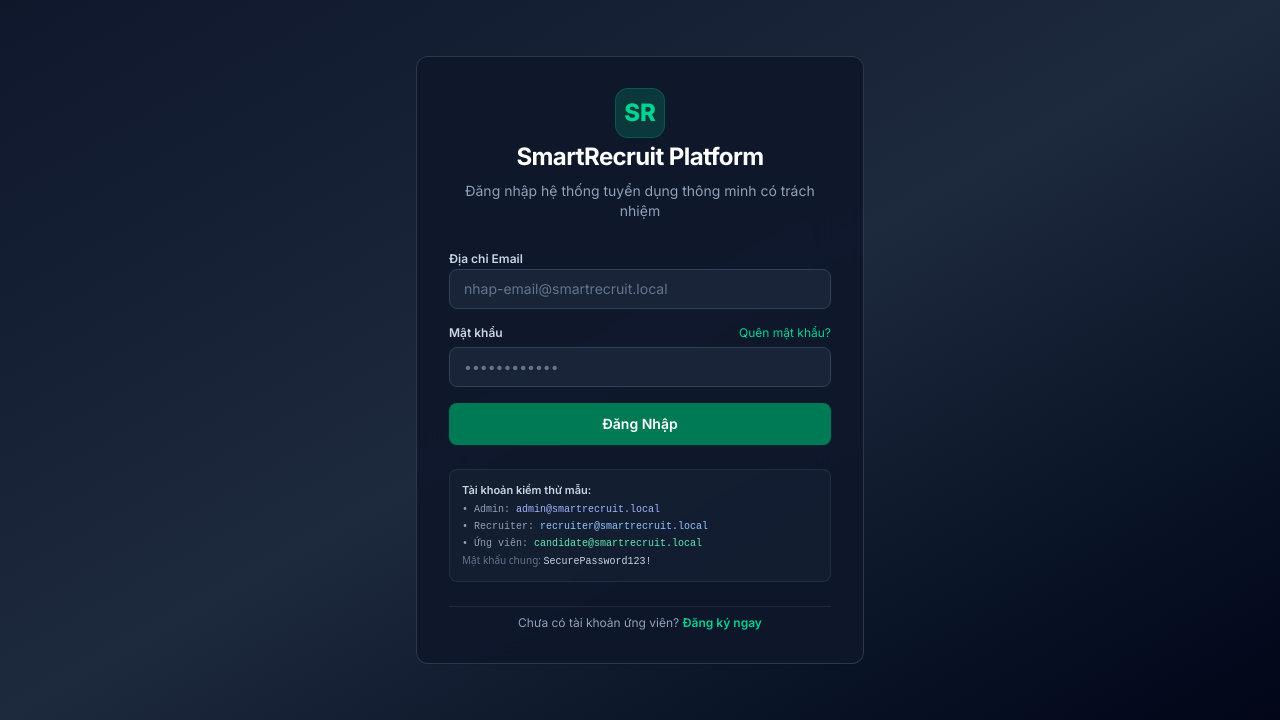
Test: SCRUM-87 accessible authentication forms › announces a rejected login without discarding the entered email
The image size is (1280, 720).
Type "candidate@example.test" into the field labelled "Địa chỉ Email".
click(640, 289); type("candidate@example.test")  # box [449,269,831,309]
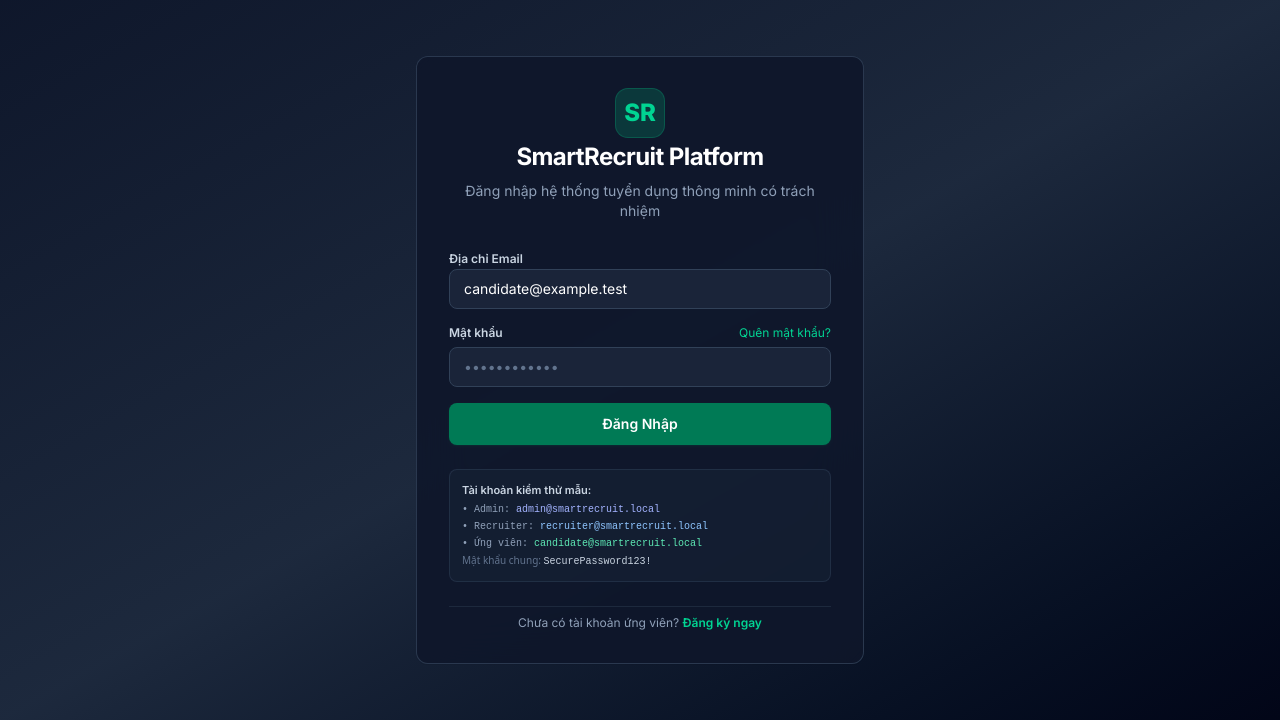
Type "synthetic-password" into the password field labelled "Mật khẩu".
click(640, 367); type("synthetic-password")  # box [449,347,831,387]
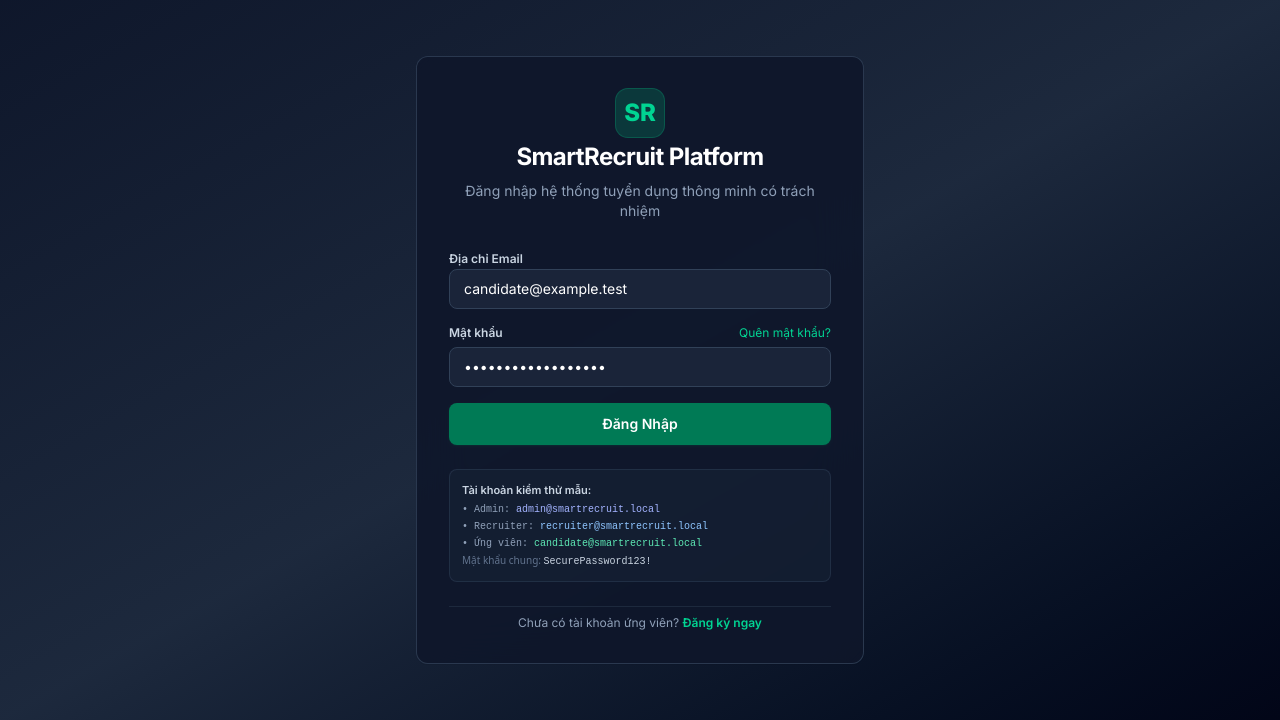
Click the button "Đăng Nhập".
click(640, 424)  # box [449,403,831,445]
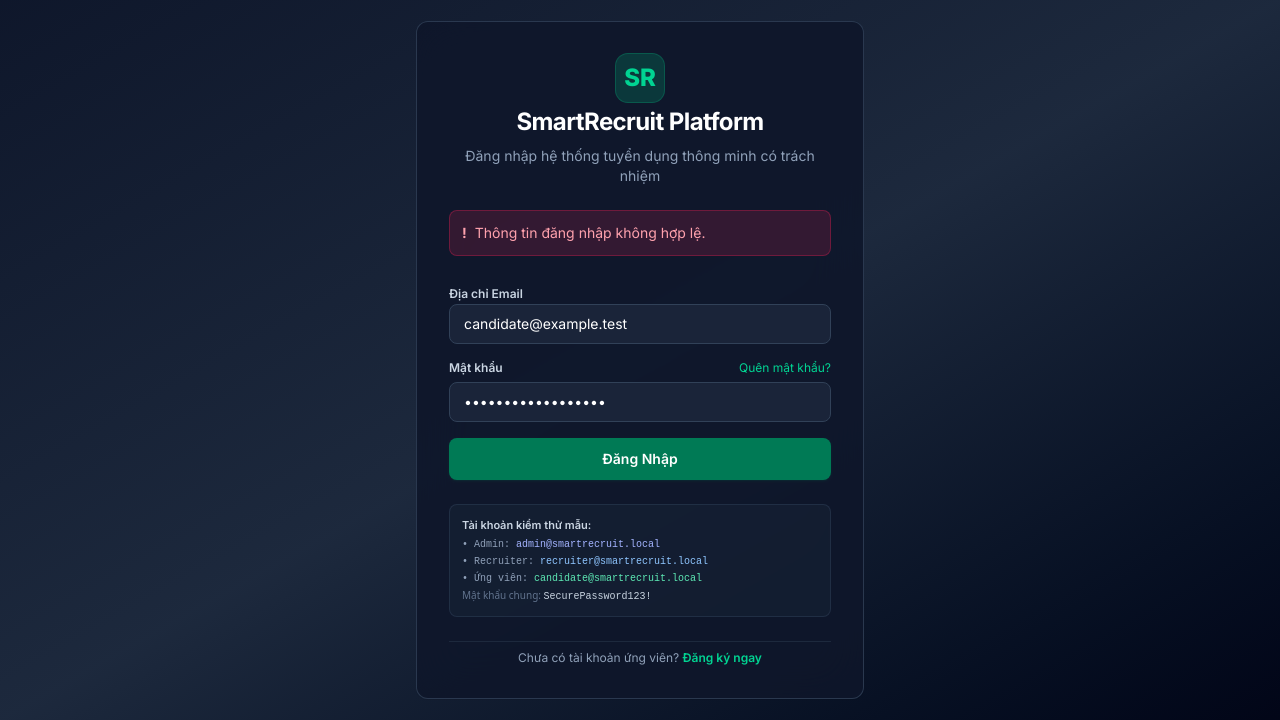
Result: the message shows "Thông tin đăng nhập không hợp lệ." at [475,224,705,241]
